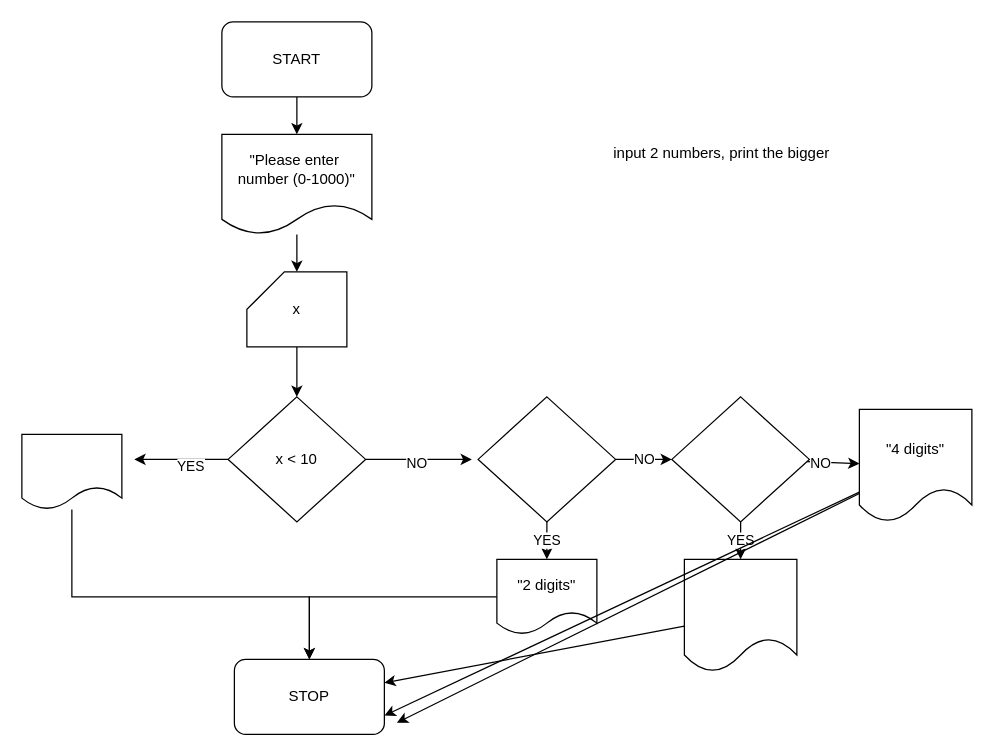
Image size: 994x756. Some labels were removed from this diagram. The centre of each missing label's shape, as x and y in pixels:
"1 digit": point (71, 471)
"3 digits": point (740, 615)
x < 100: point (546, 459)
x < 1000: point (740, 459)
